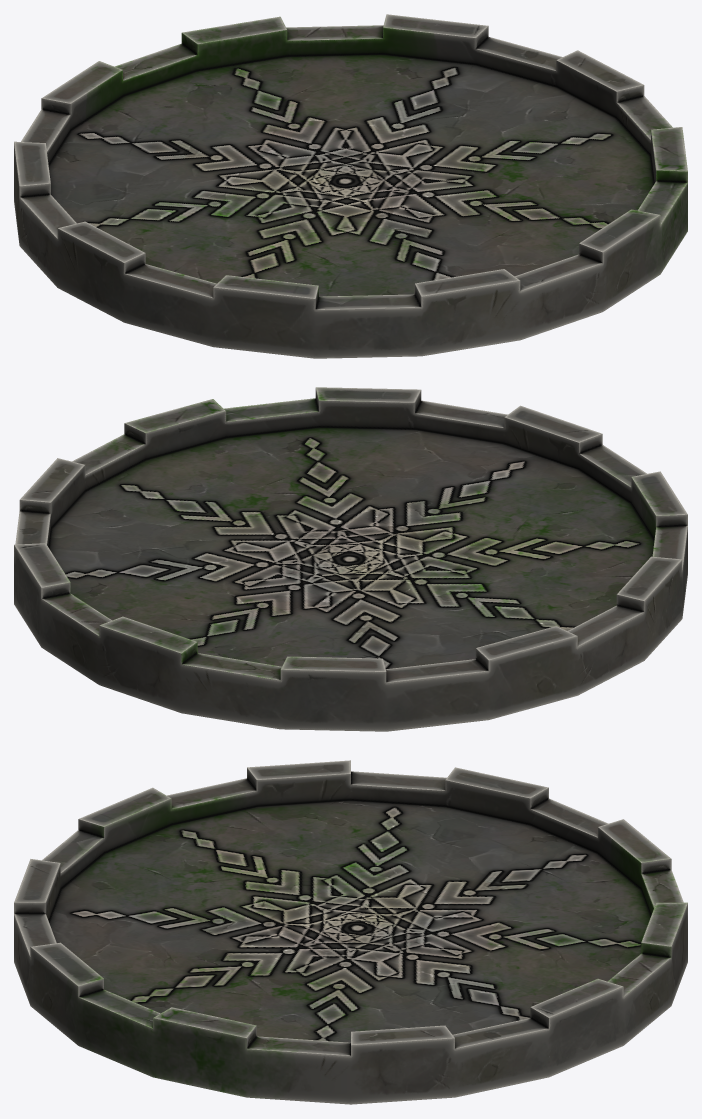
Rendered from Pied3F.fbx.
3 views of the same model, one above another, from view 1: azimuth 30°, elevation 25°; view 2: azimuth 150°, elevation 25°; view 3: azimuth 270°, elevation 25° (orthographic).
Visible parts, largest first — view 1: pied3_LOD0; view 2: pied3_LOD0; view 3: pied3_LOD0.
Part boxes in pixels (x1,y1,x2,y2): pied3_LOD0: (14,14,687,358); pied3_LOD0: (14,387,687,731); pied3_LOD0: (14,760,687,1104).
Size of what is drawn, in the model's own units: 690 by 67.01 by 690.
